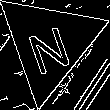N_N: (23, 13, 76, 74)
